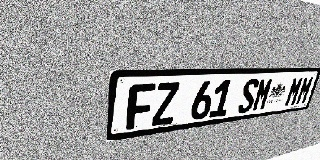1: (209, 80, 234, 118)
6: (190, 80, 216, 121)
F: (126, 83, 156, 130)
M: (251, 78, 274, 112), (284, 76, 304, 107), (295, 76, 315, 105)
S: (237, 78, 260, 114)
Z: (151, 82, 180, 126)
